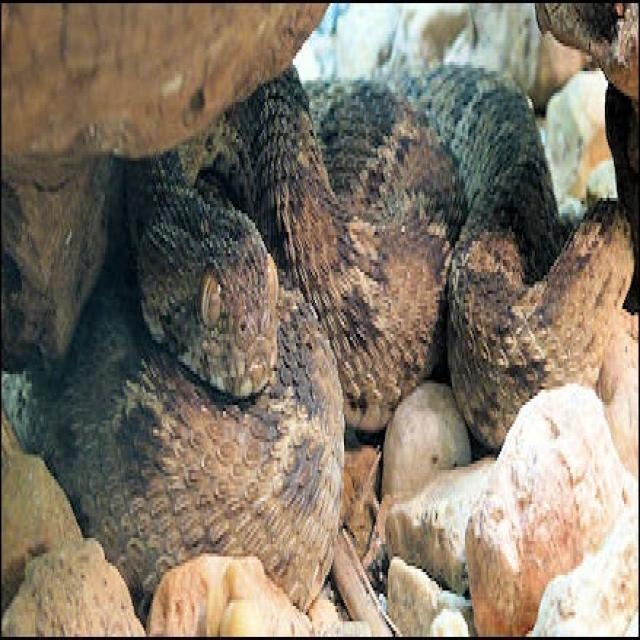Snake: (51, 47, 638, 598)
